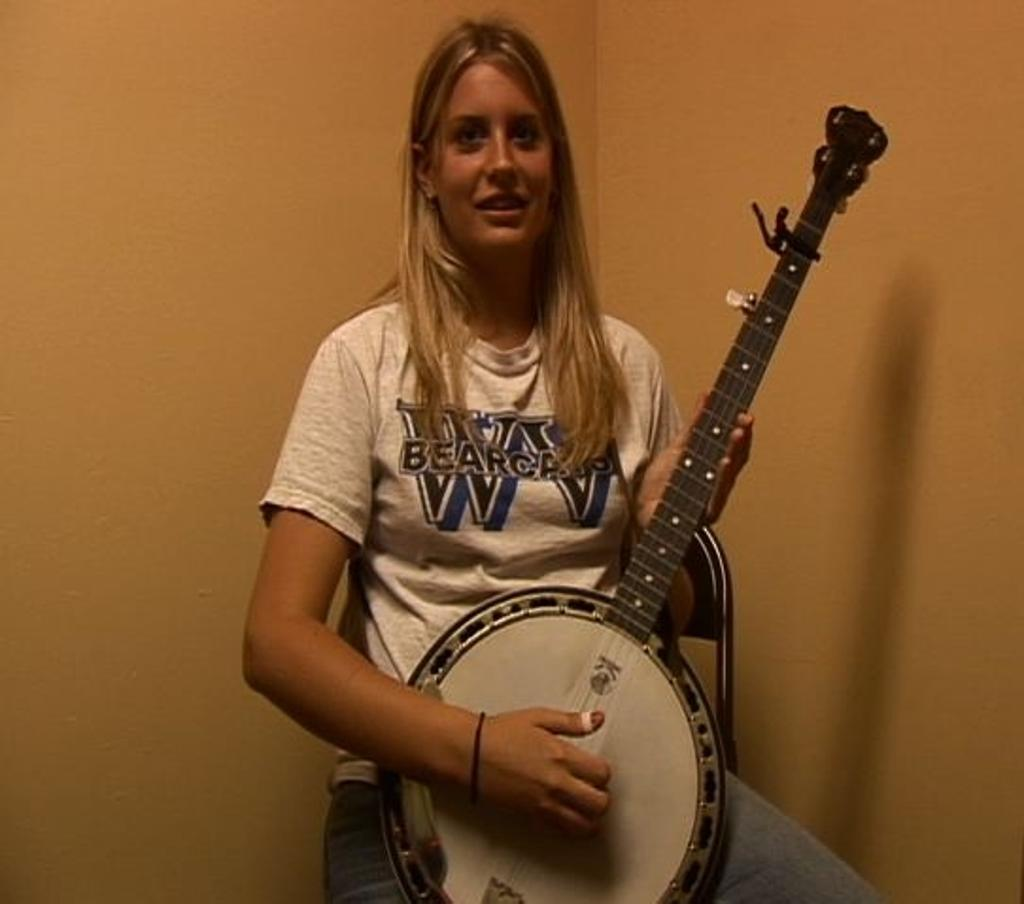face: (440, 62, 558, 242)
